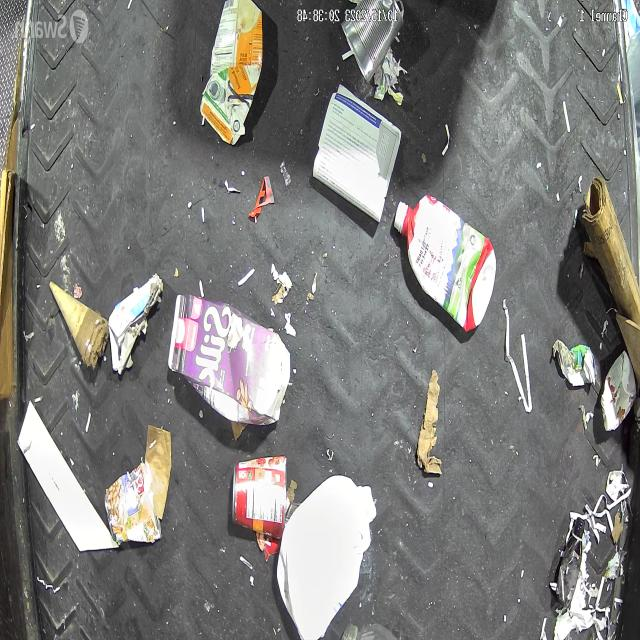can: (223, 445, 296, 538), (331, 0, 412, 79)
milk_jug: (286, 473, 378, 640)
